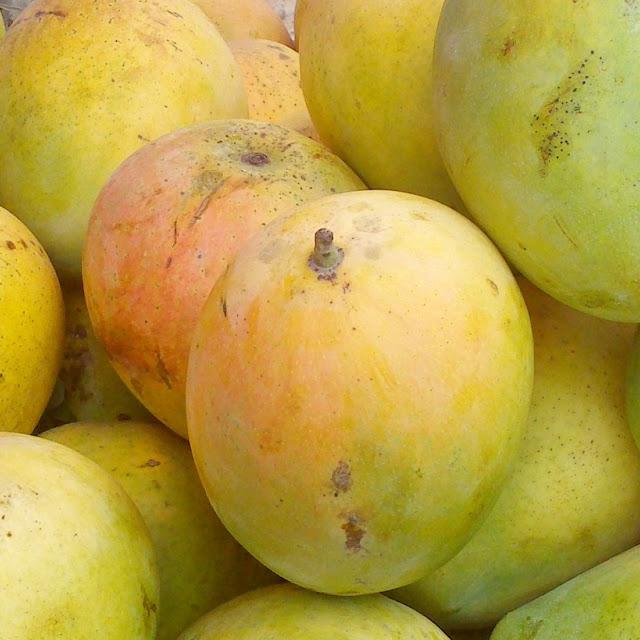mango: (186, 192, 532, 595), (82, 120, 364, 434), (392, 276, 640, 629), (0, 0, 248, 279), (298, 0, 464, 211), (0, 434, 161, 640)
